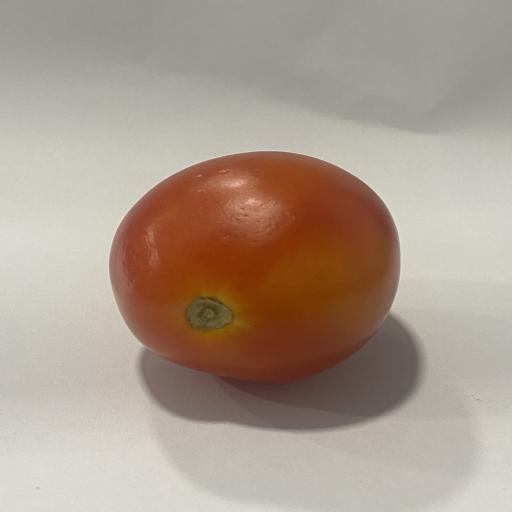ripe: (110, 152, 400, 382)
